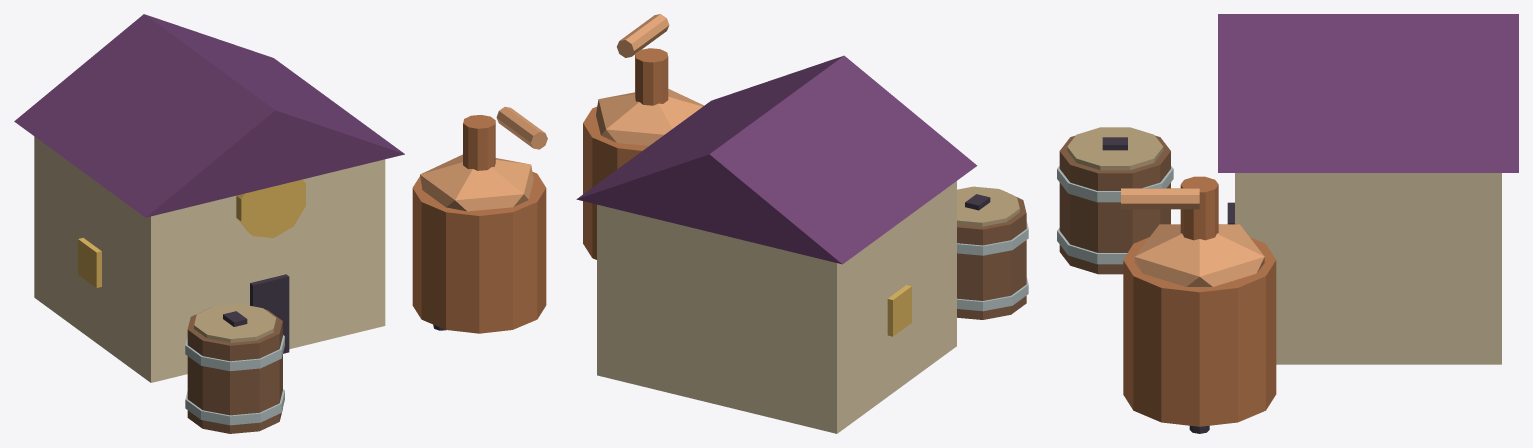
The model's file is brewery.glb.
The picture shows the model from 3 angles, left to right: view 1: azimuth 30°, elevation 25°; view 2: azimuth 150°, elevation 25°; view 3: azimuth 270°, elevation 25°; orthographic projection. The views are drawn at different scales.
Parts seen in each view (by area): view 1: Cone; view 2: Cone; view 3: Cone.
Part boxes in pixels (box(x1,y1,x2,y2)): Cone: box(14, 14, 547, 433); Cone: box(576, 14, 1028, 433); Cone: box(1057, 14, 1518, 433).
Size of the model in its own units: 1.8 by 1.12 by 1.64.
